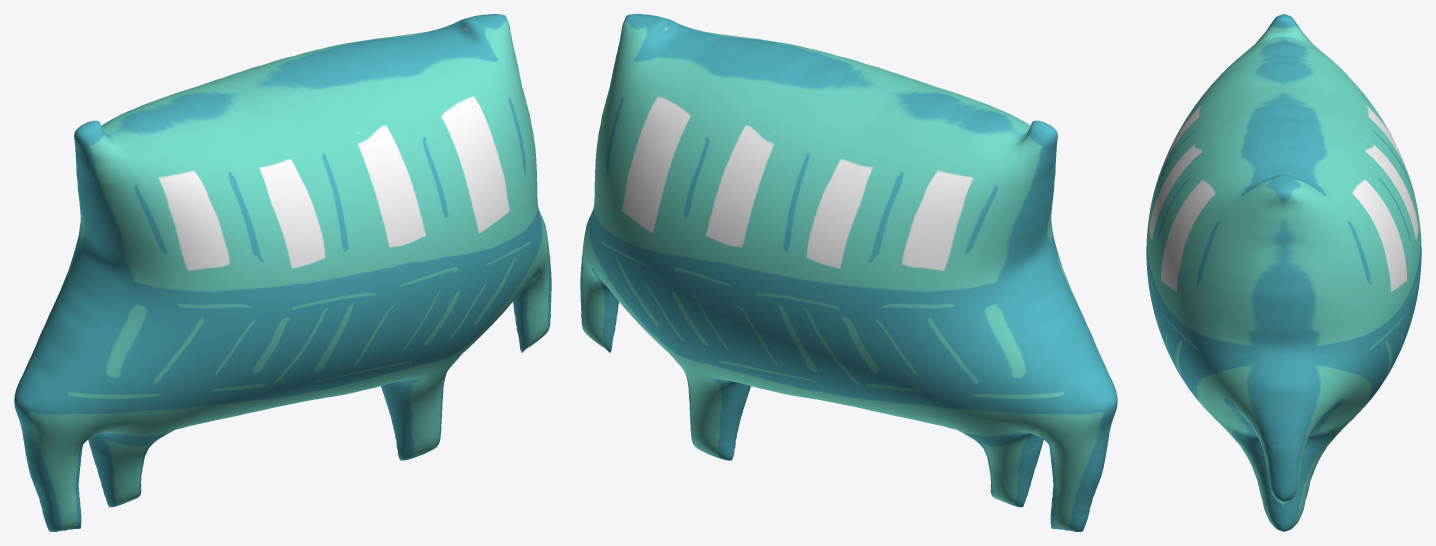
The model's file is Bluebench0.be6e5bee.glb.
3 views of the same model, side by side, from view 1: azimuth 30°, elevation 25°; view 2: azimuth 150°, elevation 25°; view 3: azimuth 270°, elevation 25° (orthographic). The views are drawn at different scales.
Bounding box in the file's own units: 6.93 × 5.27 × 3.46.
1 material, 1 textured.
